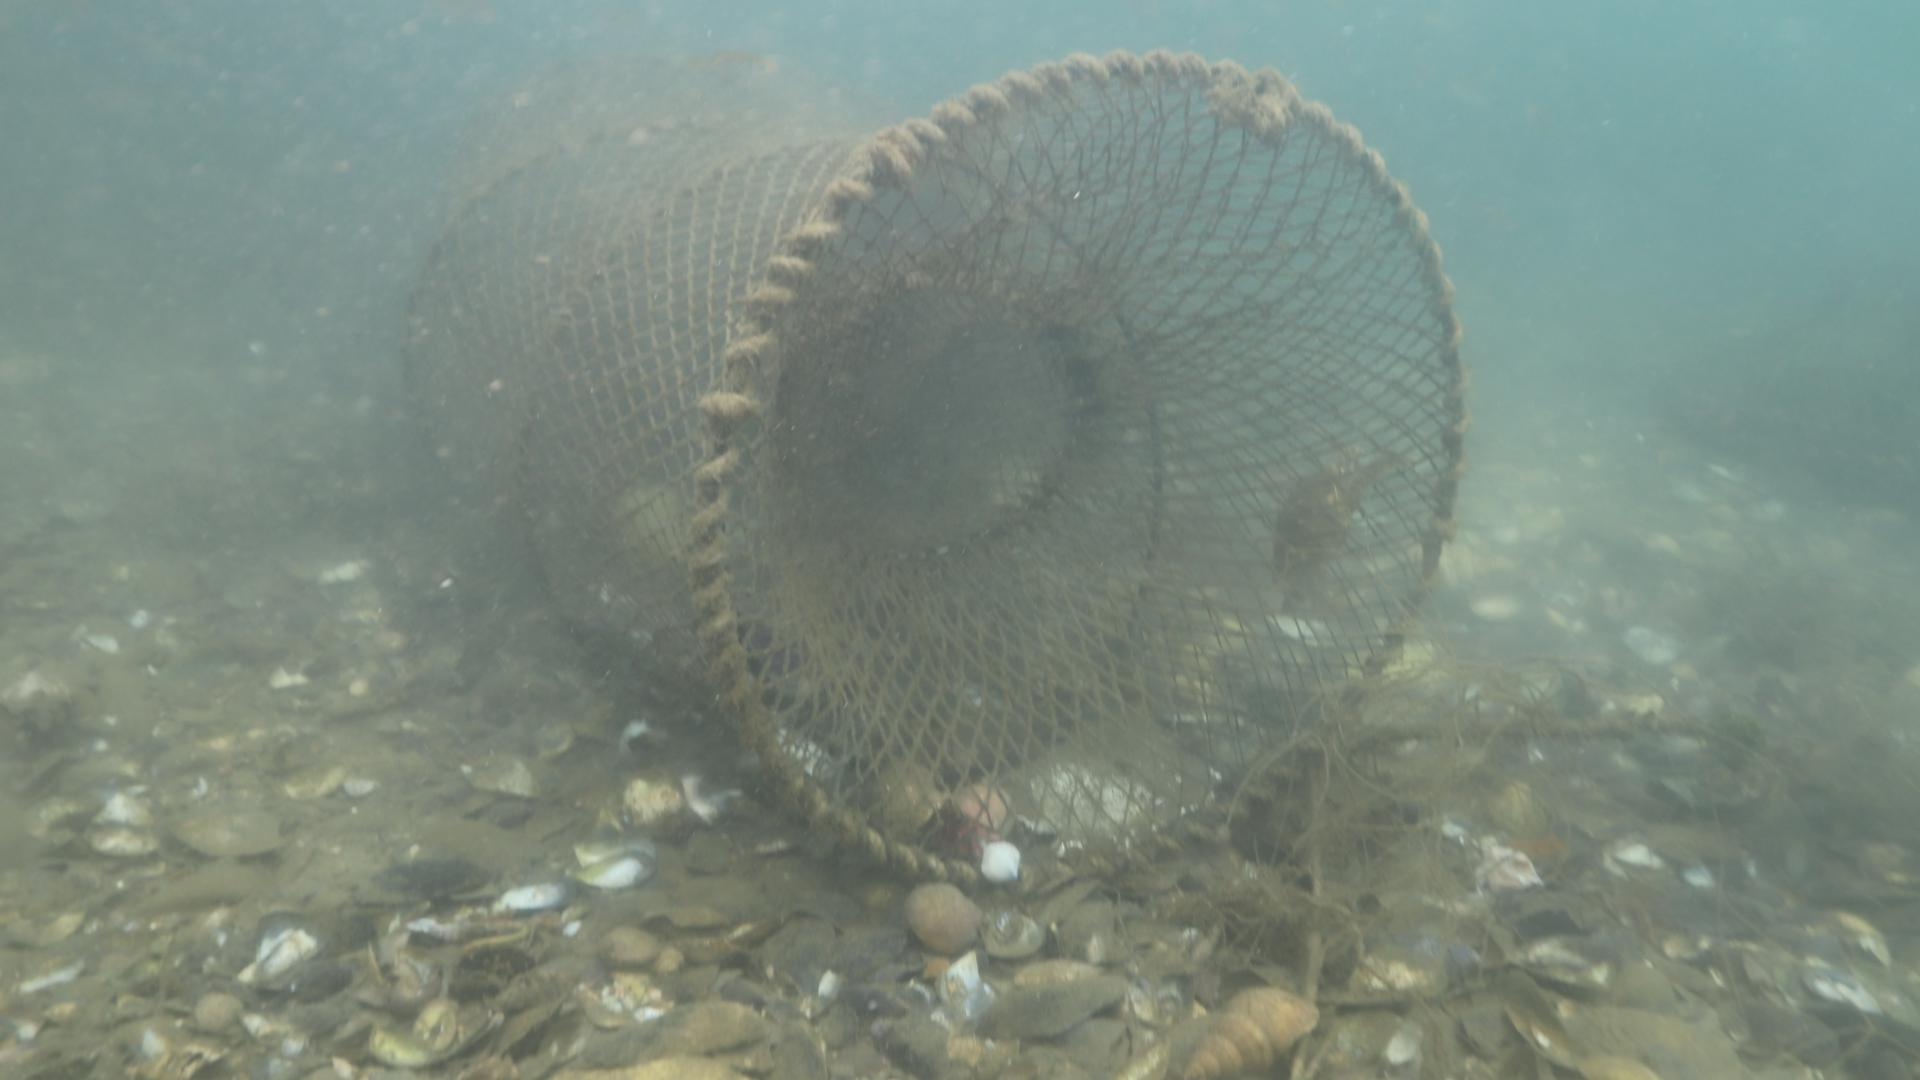spring fish trap: (398, 47, 1468, 886)
